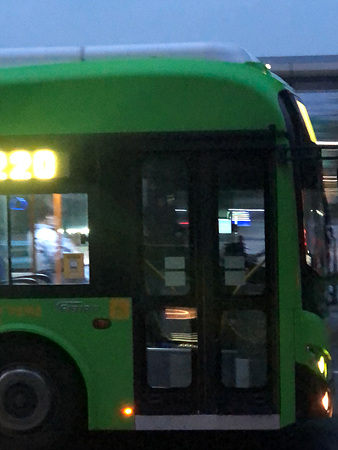entrance: (127, 141, 281, 415)
